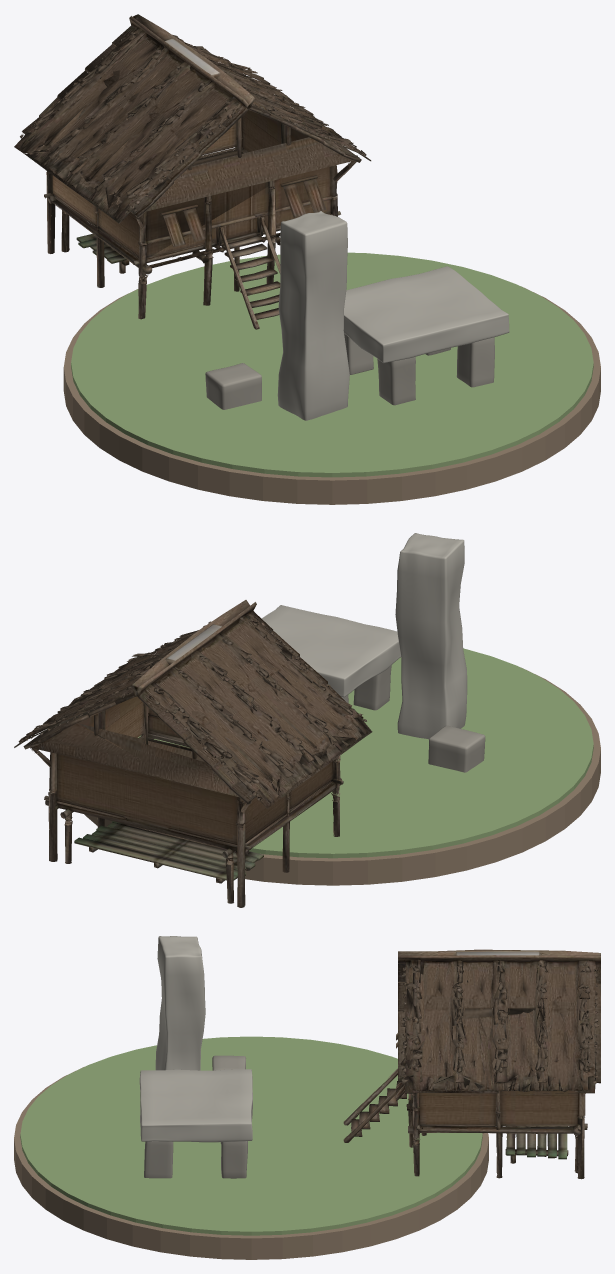
Rendered from sumut.glb.
3 views of the same model, one above another, from view 1: azimuth 30°, elevation 25°; view 2: azimuth 150°, elevation 25°; view 3: azimuth 270°, elevation 25° (orthographic). The views are drawn at different scales.
Visible parts, largest first — view 1: GEO-rumput, GEO-rumah-latar, GEO-alas, GEO-menhir, GEO-daro-lempeng, GEO-batu-kecil, GEO-daro-kaki-1, GEO-daro-kaki-0, GEO-daro-kaki-2; view 2: GEO-rumah-latar, GEO-rumput, GEO-menhir, GEO-alas, GEO-daro-lempeng, GEO-batu-kecil, GEO-daro-kaki-0; view 3: GEO-rumput, GEO-rumah-latar, GEO-alas, GEO-daro-lempeng, GEO-menhir, GEO-daro-kaki-1, GEO-daro-kaki-3, GEO-batu-kecil.
Part boxes in pixels (left/top/right/bottom): GEO-rumput: left=71, top=252, right=593, bottom=477; GEO-rumah-latar: left=14, top=14, right=371, bottom=329; GEO-alas: left=63, top=287, right=600, bottom=504; GEO-menhir: left=277, top=211, right=349, bottom=420; GEO-daro-lempeng: left=343, top=266, right=509, bottom=363; GEO-batu-kecil: left=205, top=363, right=261, bottom=409; GEO-daro-kaki-1: left=456, top=337, right=494, bottom=387; GEO-daro-kaki-0: left=377, top=357, right=415, bottom=405; GEO-daro-kaki-2: left=344, top=333, right=373, bottom=374; GEO-rumah-latar: left=14, top=600, right=372, bottom=907; GEO-rumput: left=138, top=648, right=593, bottom=858; GEO-menhir: left=395, top=533, right=467, bottom=739; GEO-alas: left=84, top=667, right=600, bottom=885; GEO-daro-lempeng: left=261, top=605, right=401, bottom=697; GEO-batu-kecil: left=428, top=725, right=485, bottom=772; GEO-daro-kaki-0: left=353, top=665, right=391, bottom=710; GEO-rumput: left=20, top=1036, right=482, bottom=1235; GEO-rumah-latar: left=343, top=949, right=600, bottom=1179; GEO-alas: left=14, top=1067, right=488, bottom=1259; GEO-daro-lempeng: left=139, top=1069, right=252, bottom=1142; GEO-menhir: left=155, top=936, right=205, bottom=1070; GEO-daro-kaki-1: left=144, top=1141, right=173, bottom=1178; GEO-daro-kaki-3: left=221, top=1141, right=247, bottom=1178; GEO-batu-kecil: left=212, top=1055, right=245, bottom=1070.
Size of the model in its own units: 4.4 by 2.12 by 5.44.
Materials: 5 (1 with a texture image).
